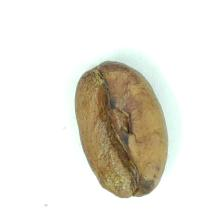NG: (85, 72, 155, 195)
